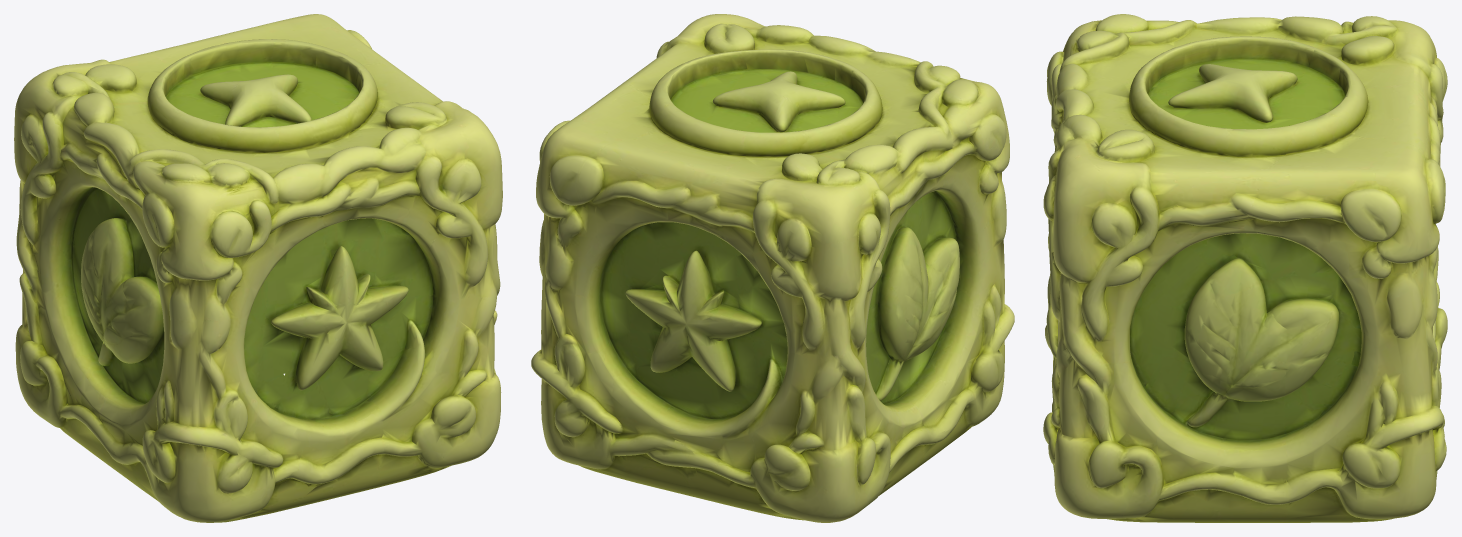
The model's file is tree.glb.
3 views of the same model, side by side, from view 1: azimuth 30°, elevation 25°; view 2: azimuth 150°, elevation 25°; view 3: azimuth 270°, elevation 25° (orthographic). The views are drawn at different scales.
Visible parts, largest first — view 1: tripo_node_2bef3fad-121c-45cd-9687-99d10f158f5b; view 2: tripo_node_2bef3fad-121c-45cd-9687-99d10f158f5b; view 3: tripo_node_2bef3fad-121c-45cd-9687-99d10f158f5b.
Part boxes in pixels (x1,y1,x2,y2): tripo_node_2bef3fad-121c-45cd-9687-99d10f158f5b: [14, 14, 502, 522]; tripo_node_2bef3fad-121c-45cd-9687-99d10f158f5b: [531, 14, 1014, 522]; tripo_node_2bef3fad-121c-45cd-9687-99d10f158f5b: [1043, 14, 1447, 522].
Size of the model in its own units: 0.9608 by 0.9785 by 0.9503.
1 material, 1 textured.
